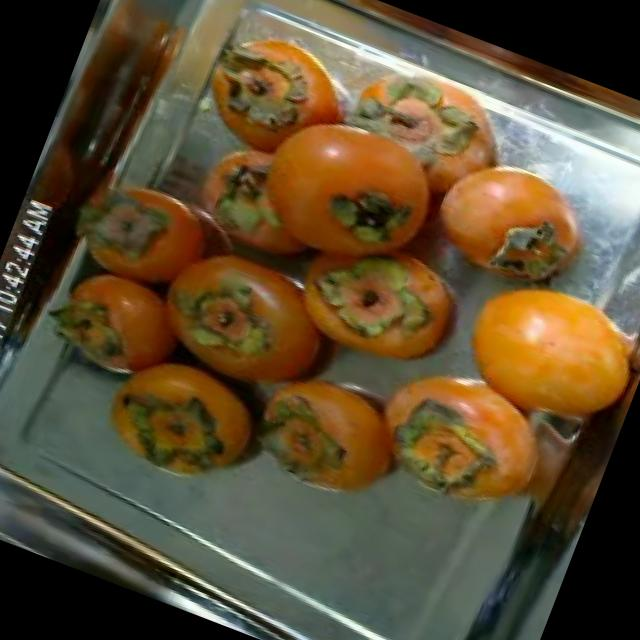Fruit: (422, 249, 640, 462), (226, 341, 442, 534), (78, 333, 287, 510), (25, 238, 223, 414)
